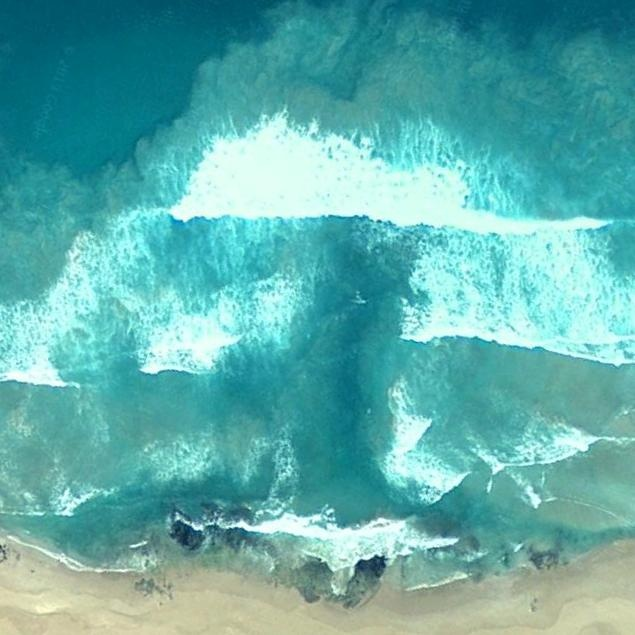rip_current: (251, 182, 435, 524)
